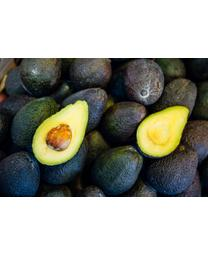avocado: (31, 99, 89, 167), (135, 105, 190, 159)
